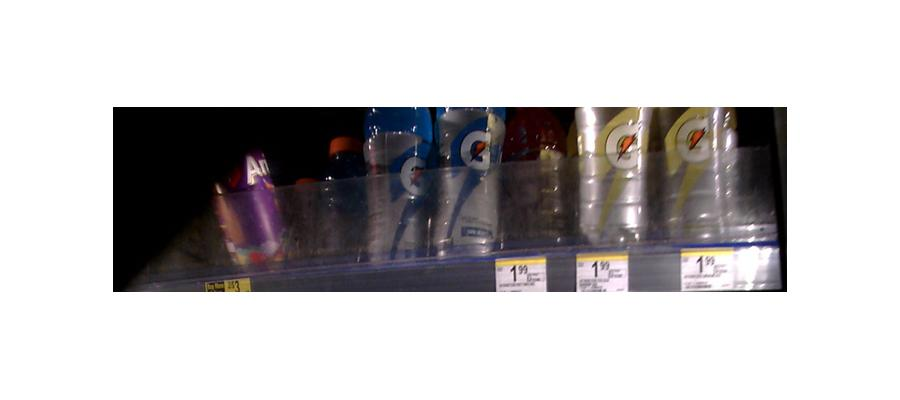bottle: (573, 100, 657, 247), (367, 103, 436, 264), (662, 105, 744, 240), (435, 102, 503, 264), (504, 107, 569, 244), (235, 136, 284, 268), (323, 121, 367, 265), (280, 138, 325, 263)
